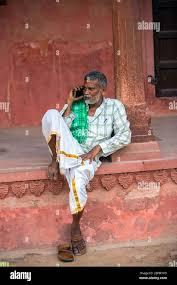Human: (41, 69, 129, 258)
